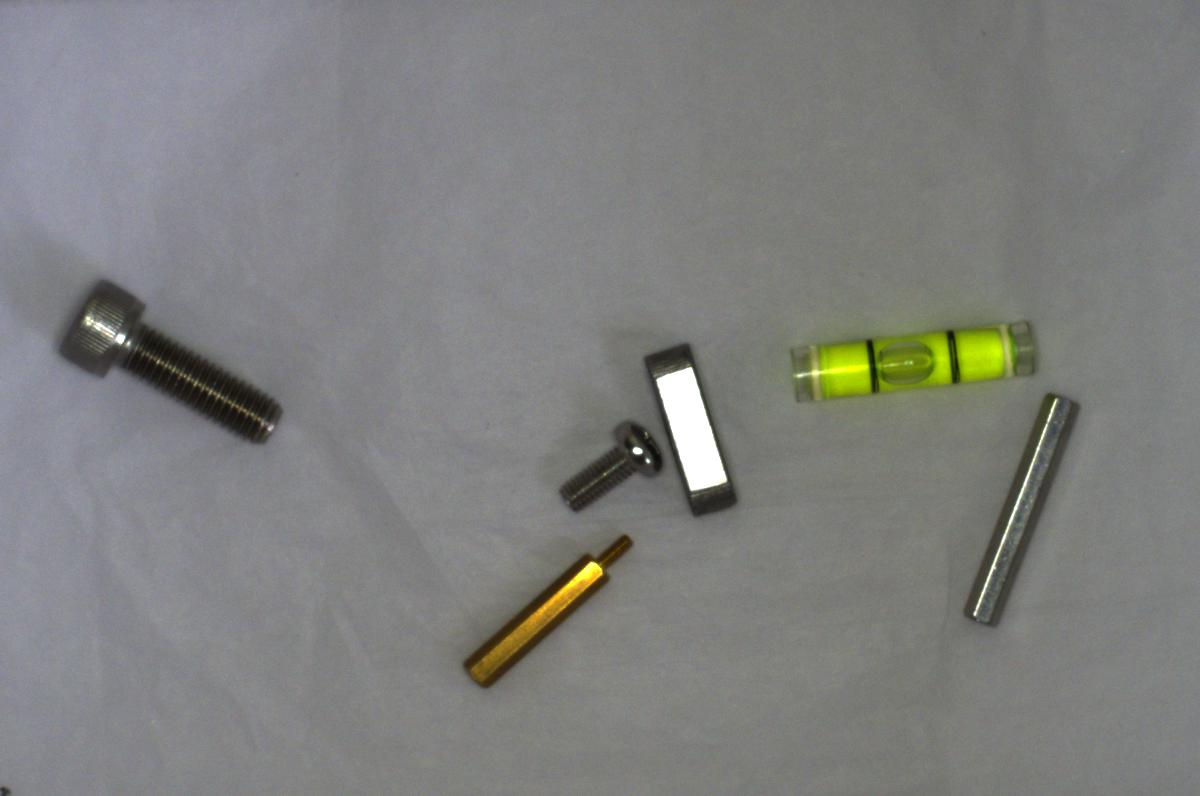Double hexagonal column: (951, 393, 1079, 627)
Hexagon pillar: (451, 526, 646, 698)
Hexagon screw: (45, 276, 302, 447)
Horizontal bubble: (778, 307, 1055, 395)
Keybar: (641, 336, 744, 516)
Round head screw: (559, 414, 665, 513)
